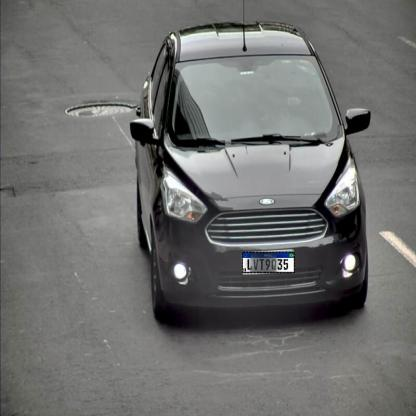PlacaM: (242, 252, 295, 273)
